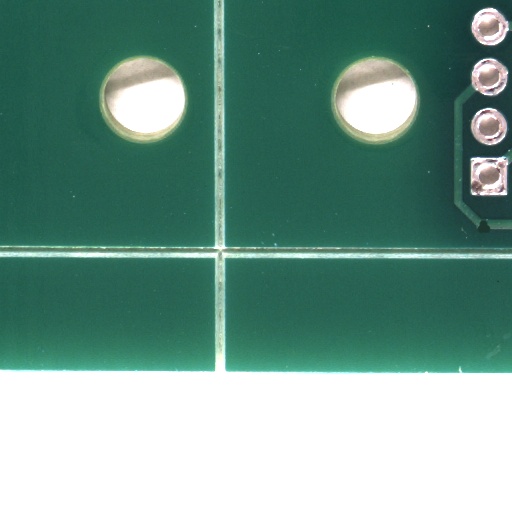Mouse_bite: (483, 226, 496, 239)
